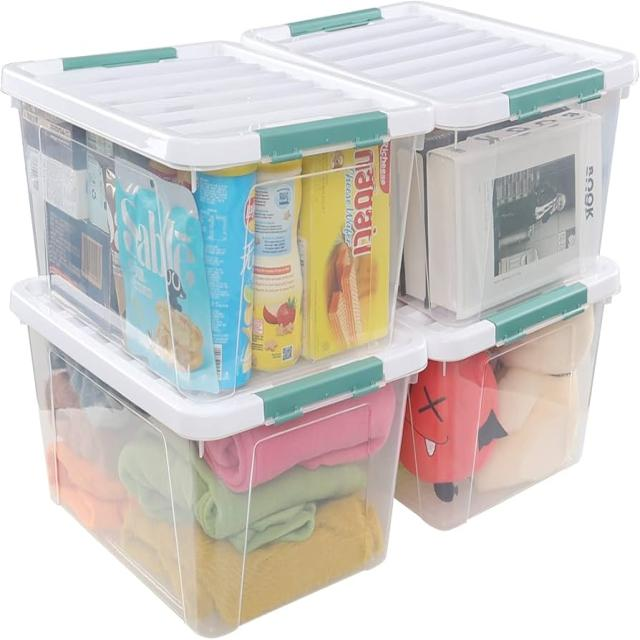plastic_box: (11, 17, 424, 635), (217, 2, 636, 579)
